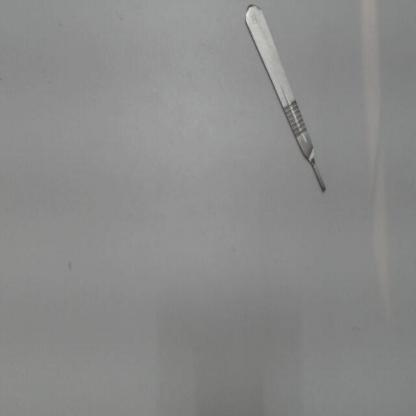No.3 BP Handle: (233, 2, 342, 211)
